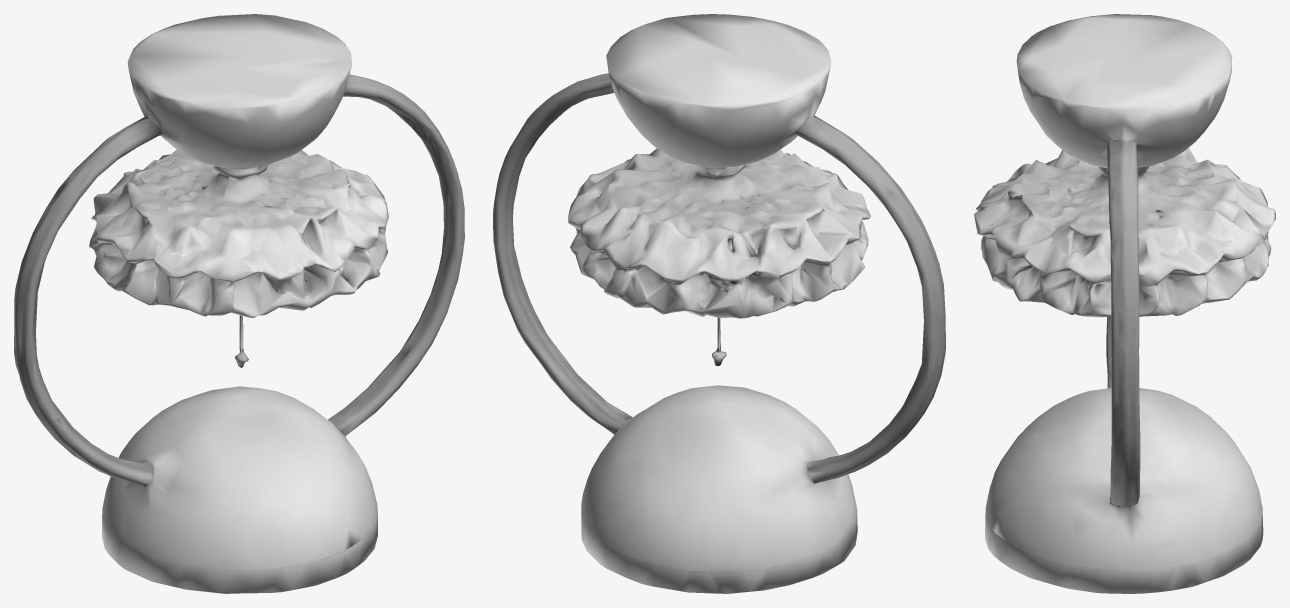
File: cocoon.glb
3 views of the same model, side by side, from view 1: azimuth 30°, elevation 25°; view 2: azimuth 150°, elevation 25°; view 3: azimuth 270°, elevation 25° (orthographic).
Bounding box in the file's own units: 1.96 × 2 × 1.15.
Materials: 1 (1 with a texture image).
